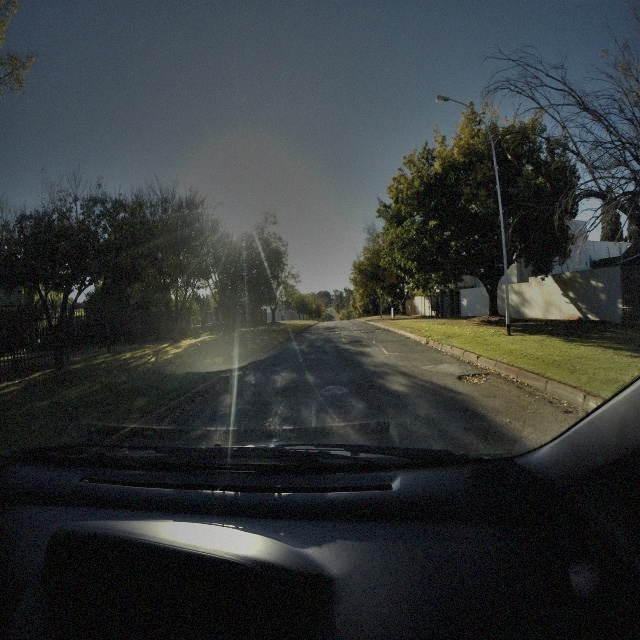pothole: (456, 370, 491, 384)
